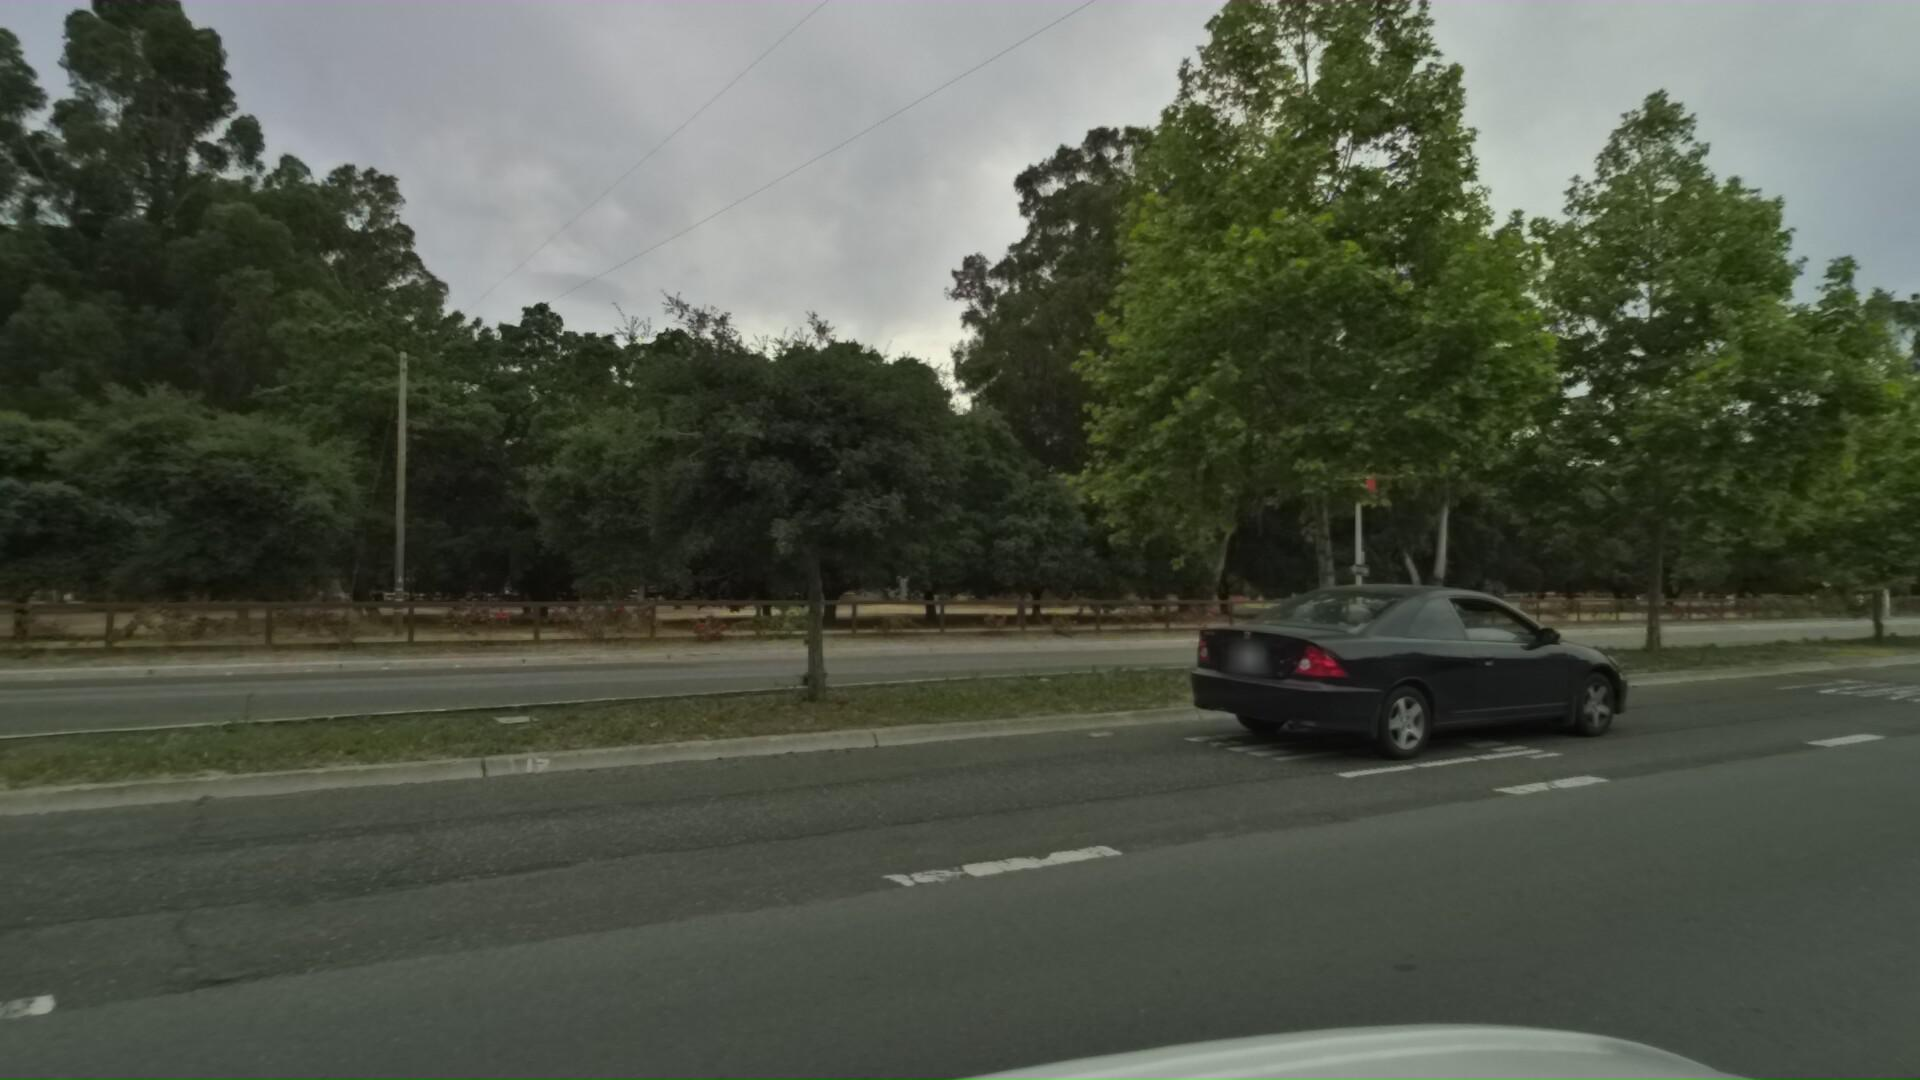car: (1178, 560, 1667, 771)
